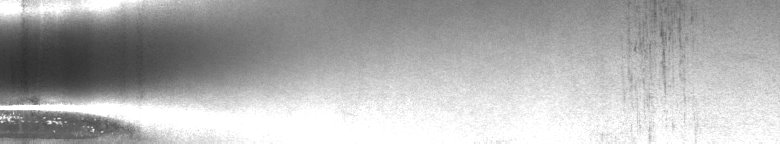ke: (4, 4, 174, 136)
